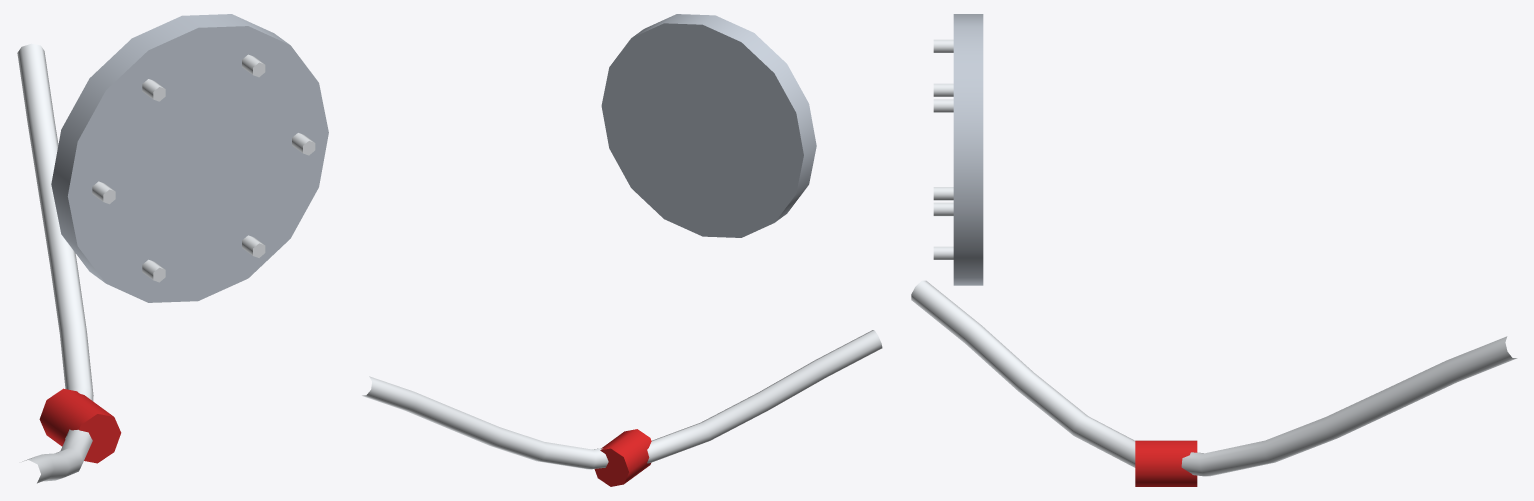
Rendered from clutch_inspection_slave.glb.
3 views of the same model, side by side, from view 1: azimuth 30°, elevation 25°; view 2: azimuth 150°, elevation 25°; view 3: azimuth 270°, elevation 25° (orthographic). The views are drawn at different scales.
Parts seen in each view (by area): view 1: Clutch_Inspection_Slave_Line_Assembly; view 2: Clutch_Inspection_Slave_Line_Assembly; view 3: Clutch_Inspection_Slave_Line_Assembly.
Part boxes in pixels (x1=…): Clutch_Inspection_Slave_Line_Assembly: x1=17, y1=14, x2=328, y2=483; Clutch_Inspection_Slave_Line_Assembly: x1=362, y1=14, x2=882, y2=486; Clutch_Inspection_Slave_Line_Assembly: x1=911, y1=14, x2=1517, y2=486.
Bounding box in the file's own units: 0.1485 × 0.205 × 0.246.
